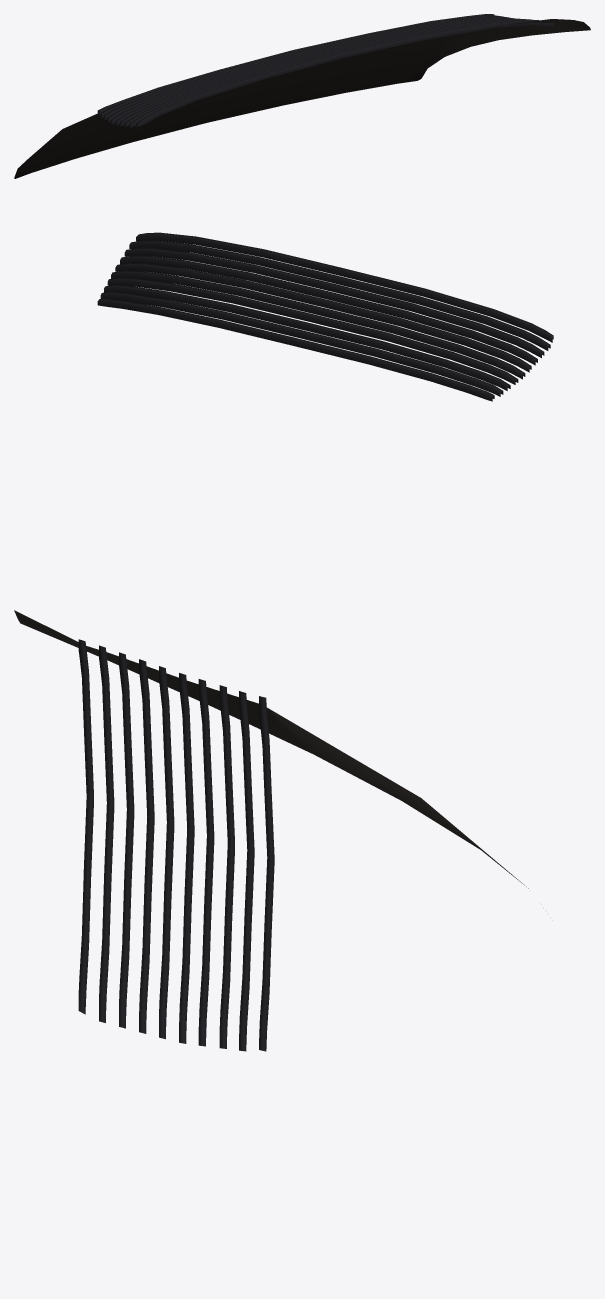
File: RWB_Boot_01_Trim.fbx
3 views of the same model, one above another, from view 1: azimuth 30°, elevation 25°; view 2: azimuth 150°, elevation 25°; view 3: azimuth 270°, elevation 25° (orthographic). The views are drawn at different scales.
Visible parts, largest first — view 1: RWB_Boot_01_Trim; view 2: RWB_Boot_01_Trim; view 3: RWB_Boot_01_Trim.
Part boxes in pixels (box(x1,y1,x2,y2)): RWB_Boot_01_Trim: box(14, 14, 590, 178); RWB_Boot_01_Trim: box(97, 232, 553, 401); RWB_Boot_01_Trim: box(14, 610, 528, 1051).
Bounding box in the file's own units: 96.85 × 36.57 × 57.59.
